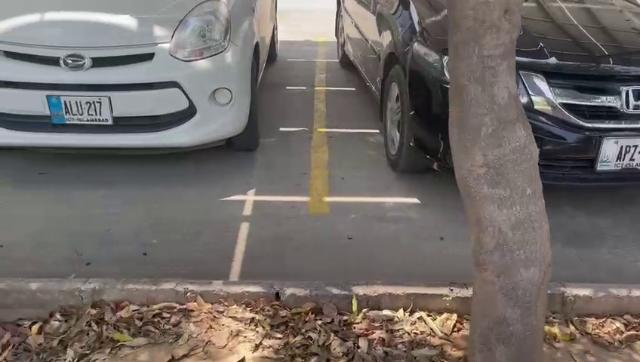plate: (46, 94, 116, 126)
